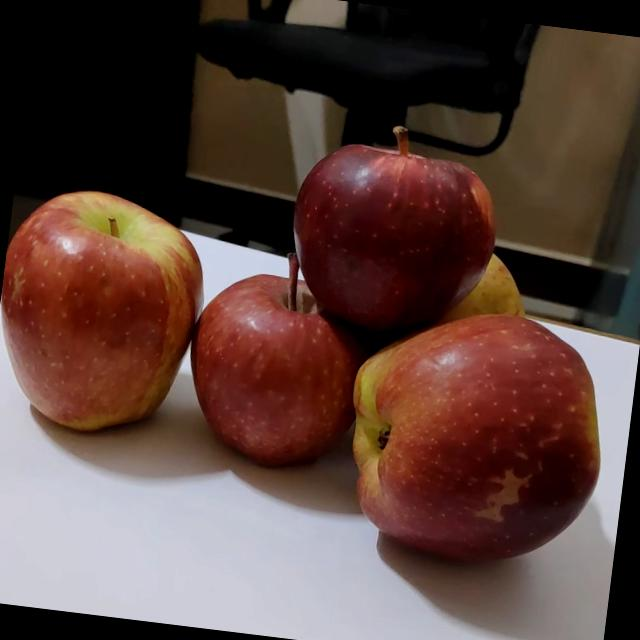apple: (328, 294, 620, 582), (0, 176, 217, 446), (274, 104, 511, 347), (176, 235, 382, 478), (408, 230, 543, 342)
